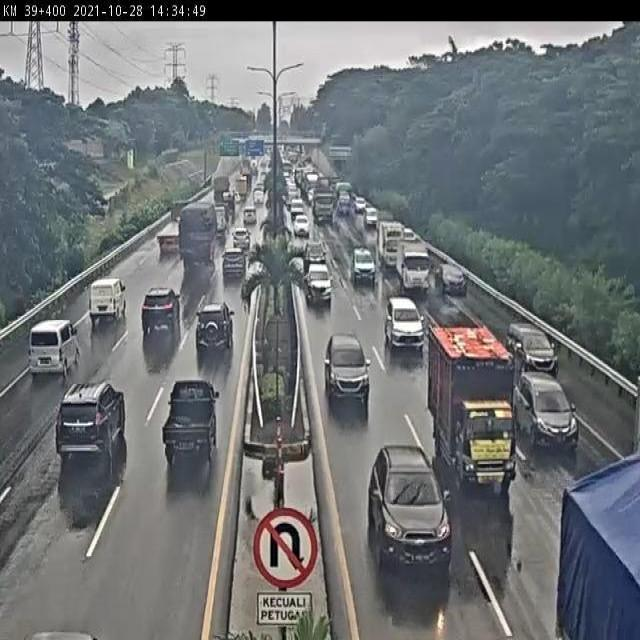big truck: (178, 207, 216, 280), (312, 180, 336, 225)
car: (363, 428, 461, 587), (157, 369, 227, 475), (56, 377, 131, 464), (513, 365, 577, 452), (326, 329, 378, 419), (23, 309, 87, 379), (502, 318, 561, 382), (383, 287, 424, 364), (142, 282, 181, 350), (196, 293, 237, 355), (88, 272, 132, 328), (436, 253, 473, 311), (299, 260, 332, 309), (219, 241, 250, 291), (348, 245, 368, 292), (293, 213, 314, 240), (305, 245, 330, 267), (232, 227, 252, 253), (240, 204, 259, 225), (363, 207, 382, 228), (354, 190, 370, 214)
small truck: (427, 318, 521, 511), (559, 453, 640, 612), (158, 196, 196, 263), (398, 238, 432, 298), (378, 222, 408, 270)
